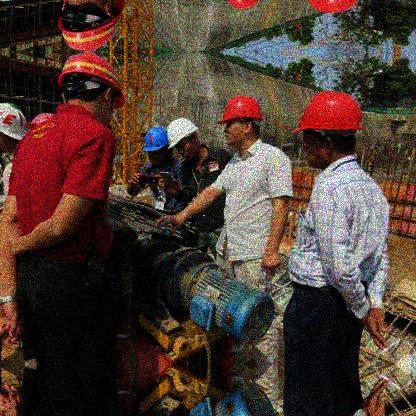helmet: (293, 91, 371, 167), (57, 53, 124, 128), (57, 1, 126, 51), (215, 95, 263, 145), (167, 116, 201, 160), (1, 102, 30, 151), (143, 125, 173, 165)
